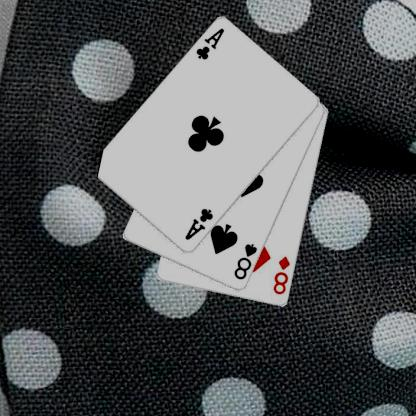8D: (271, 254, 291, 296)
8S: (231, 241, 259, 281)
AC: (193, 26, 226, 61), (182, 206, 214, 242)
